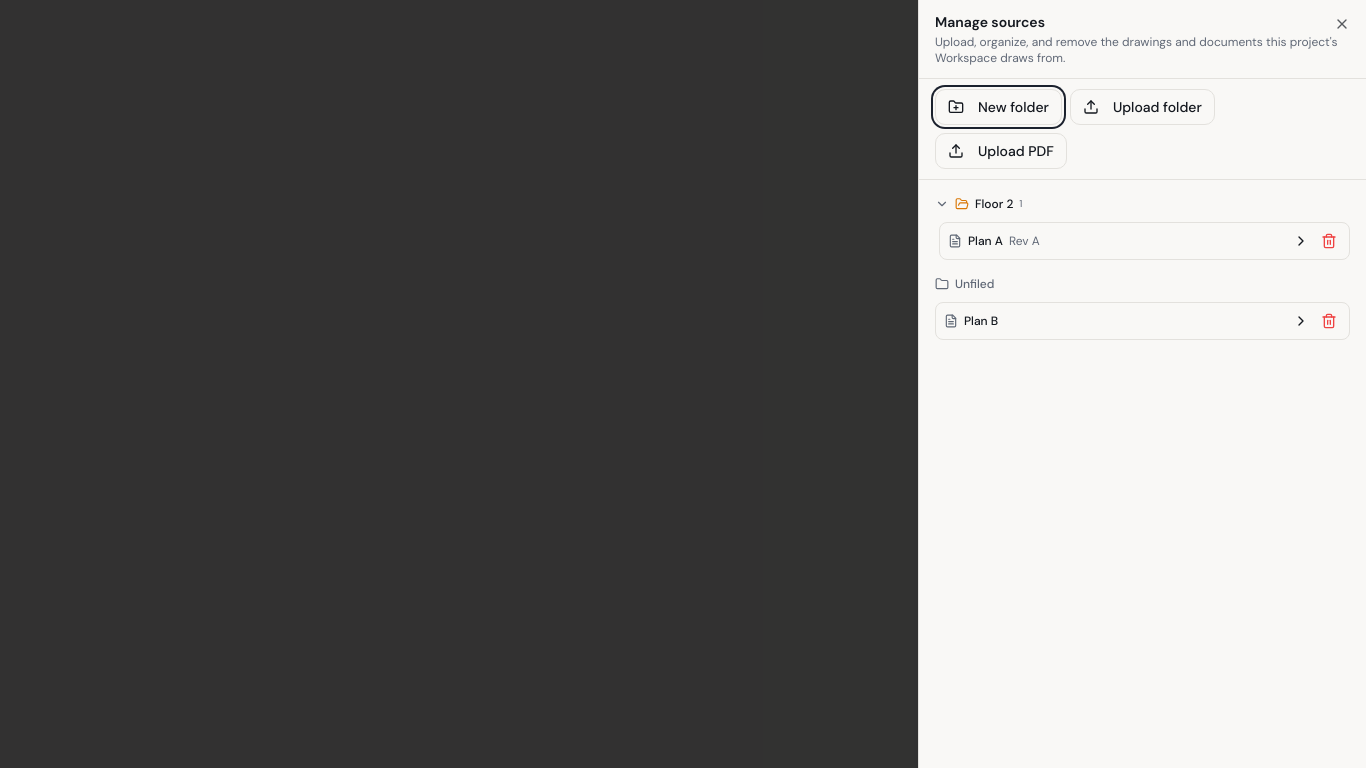
WorkspaceSourceManager › expanding a document's revisions shows its current revision and an 'Add revision' affordance (no rename — not supported anywhere today)
The image size is (1366, 768).
Expected: the text "Plan A" is shown, [968,233,1003,249]
Click the 1st button named "Toggle revisions": [1301, 241] box [1289,229,1313,253]
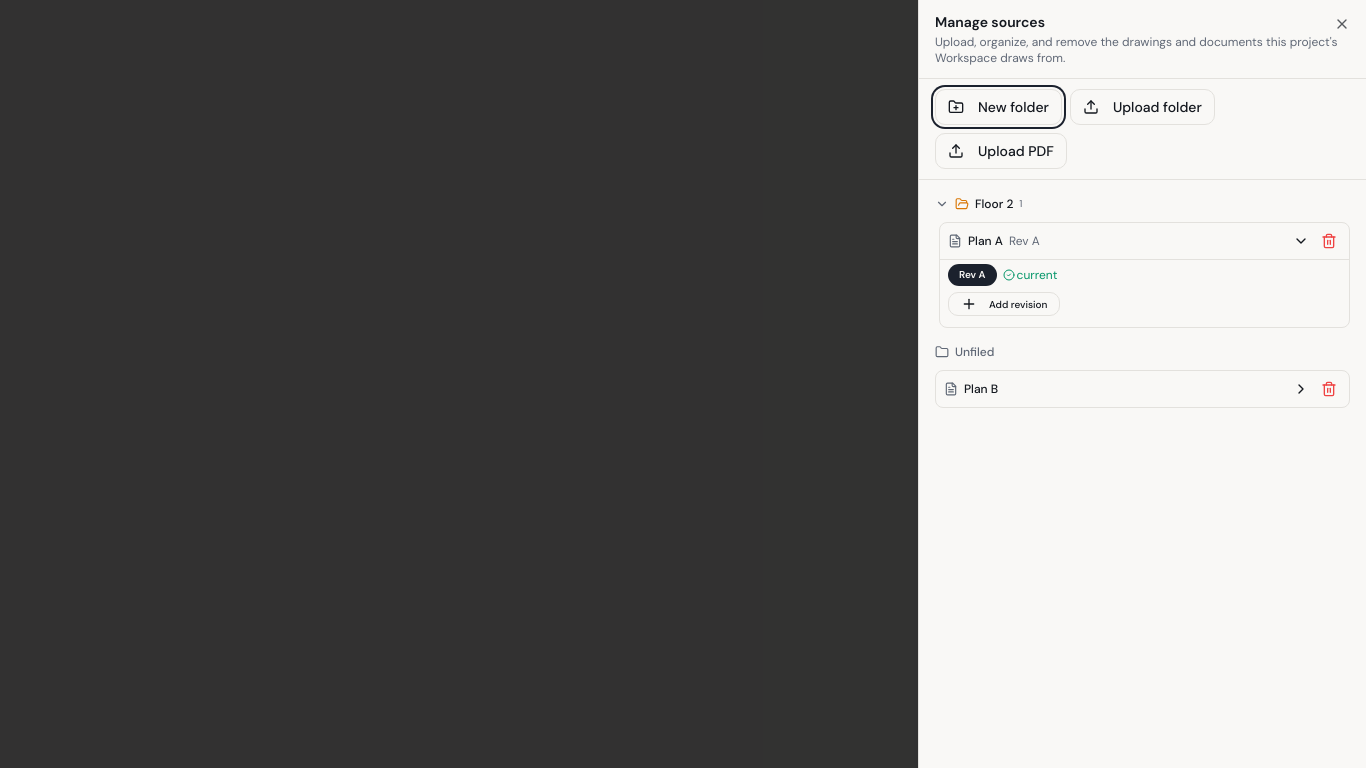
Expected: the text "current" is shown, [1003,267,1057,283]
Expected: the button "Add revision" is shown, [948,292,1060,316]
